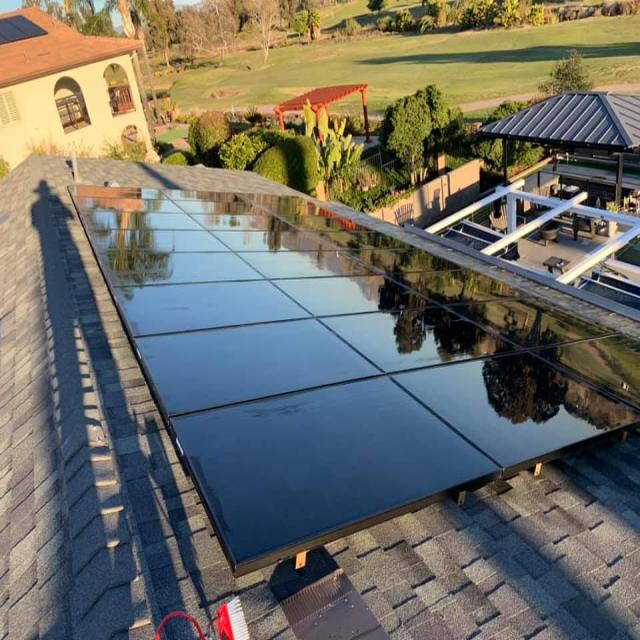clean-solar-panel: (71, 187, 640, 573)
